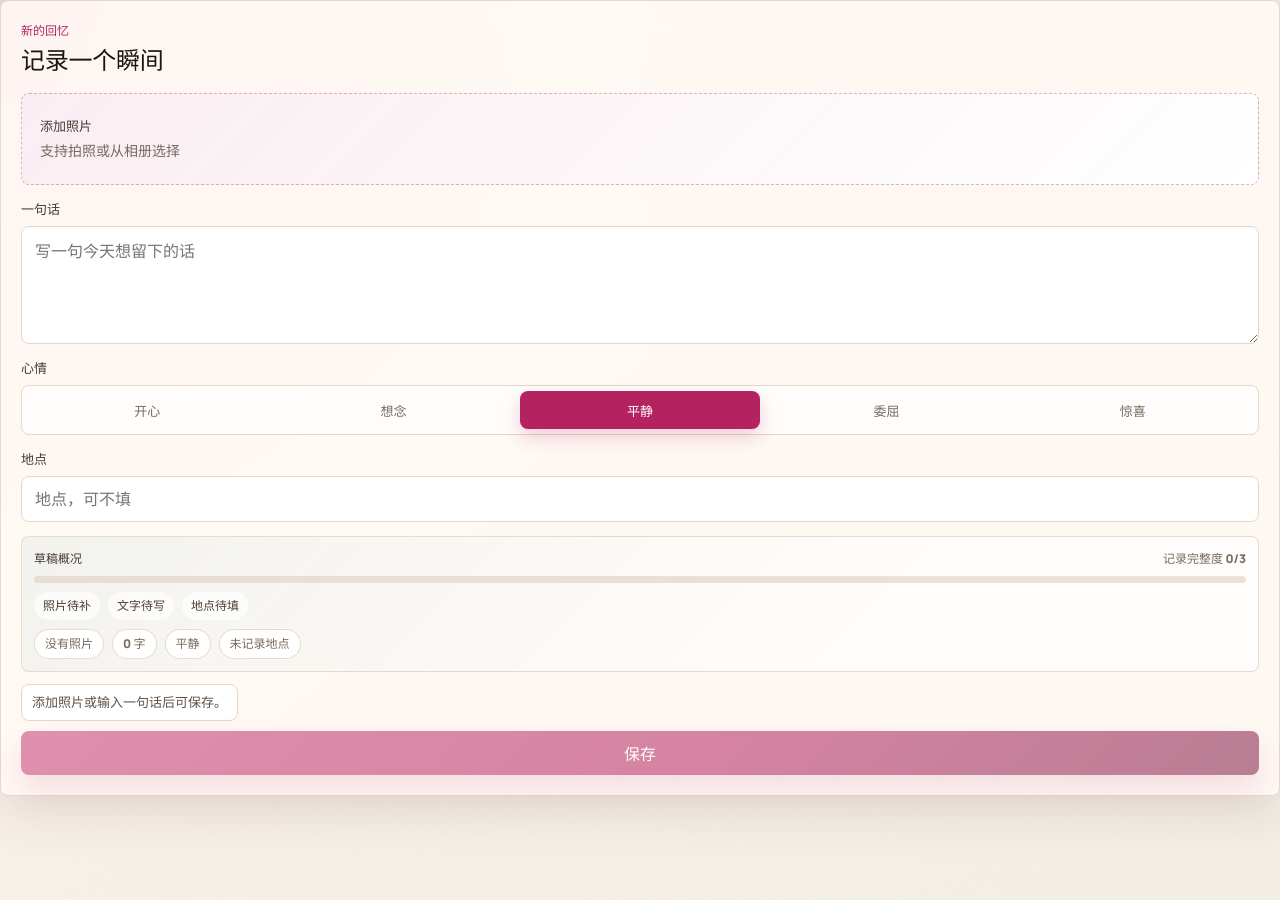
Test: MomentComposer › explains save requirements and readiness to assistive tech
Expected: the button "保存" is disabled, top-left (21, 731), bottom-right (1259, 775)
Type "今天一起散步" into the text box labelled "一句话" at {"x": 640, "y": 285}, box top-left (21, 226), bottom-right (1259, 344)
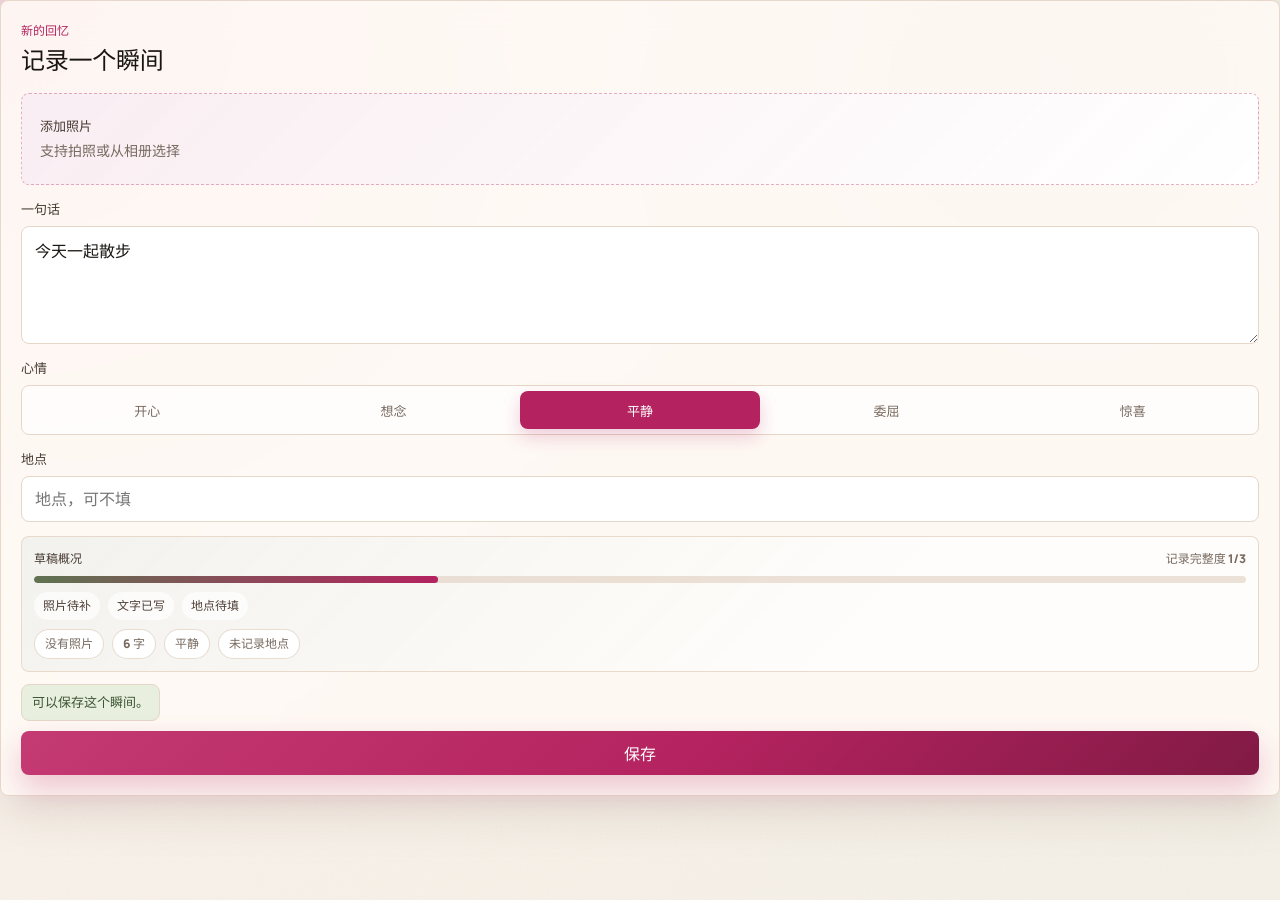
Now the text "可以保存这个瞬间。" is shown, box top-left (21, 684), bottom-right (160, 721)
Now the button "保存" is enabled, box top-left (21, 731), bottom-right (1259, 775)
